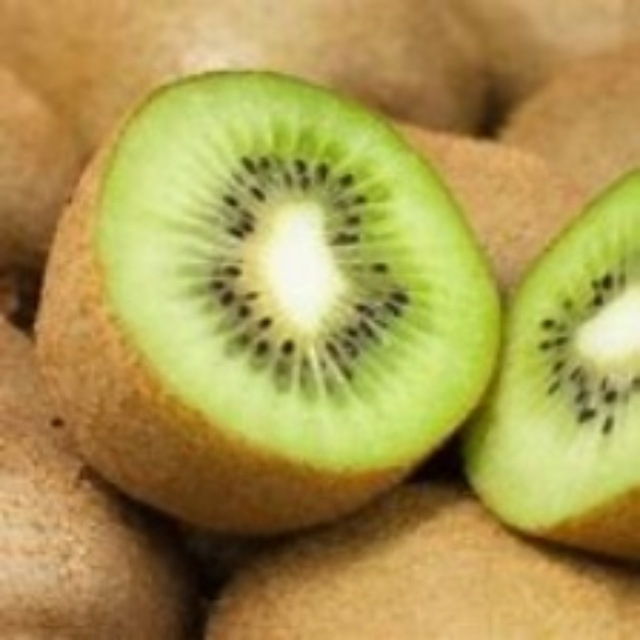kiwi: (44, 70, 499, 525), (456, 170, 639, 566)
